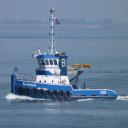tugboat: (10, 8, 120, 105)
